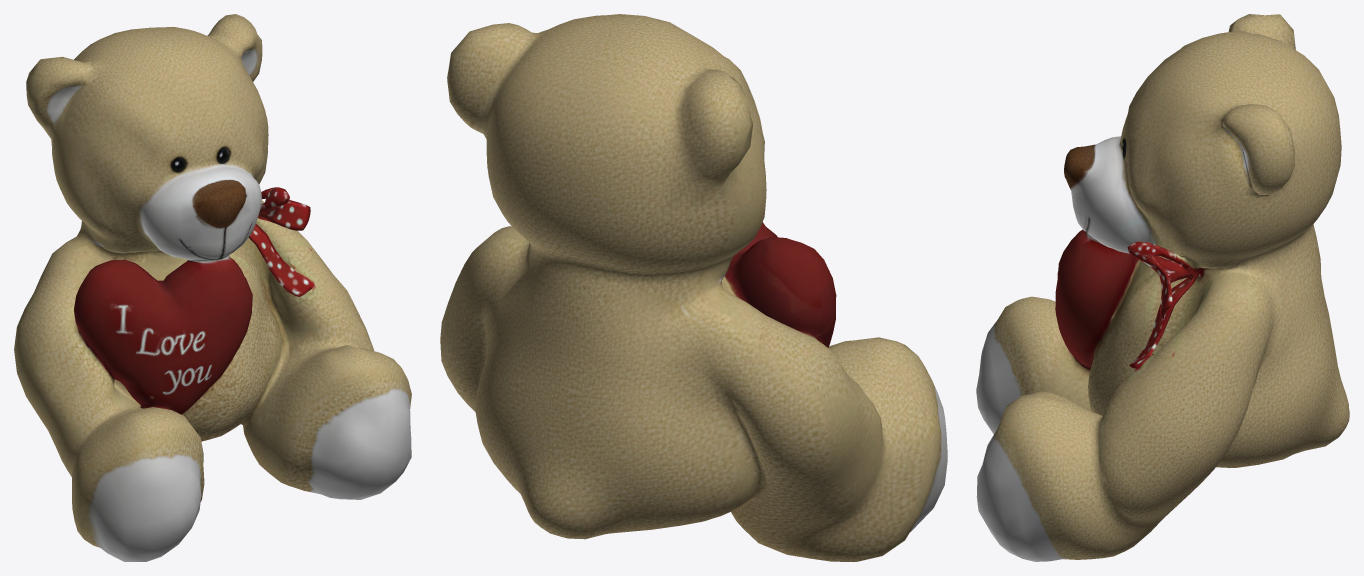
The model's file is TeddyBear.fbx.
The picture shows the model from 3 angles, left to right: view 1: azimuth 30°, elevation 25°; view 2: azimuth 150°, elevation 25°; view 3: azimuth 270°, elevation 25°; orthographic projection. The views are drawn at different scales.
Parts seen in each view (by area): view 1: tripo_node_b3363c22; view 2: tripo_node_b3363c22; view 3: tripo_node_b3363c22.
Boxes of the visible parts, x1,y1,x2,y2 form: tripo_node_b3363c22: (14, 14, 411, 561); tripo_node_b3363c22: (440, 14, 947, 561); tripo_node_b3363c22: (976, 14, 1349, 561).
Size of the model in its own units: 49.7 by 62.04 by 45.14.
Materials: 1 (1 with a texture image).
